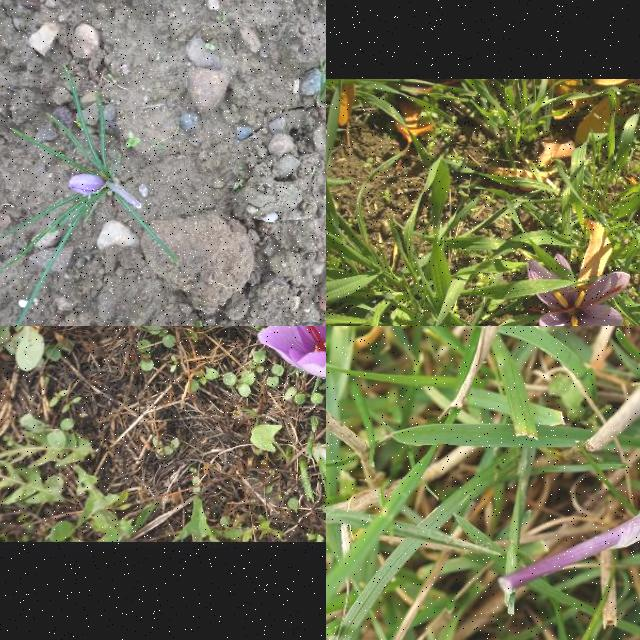flower: (527, 253, 631, 326), (258, 326, 326, 377), (67, 172, 103, 194)
